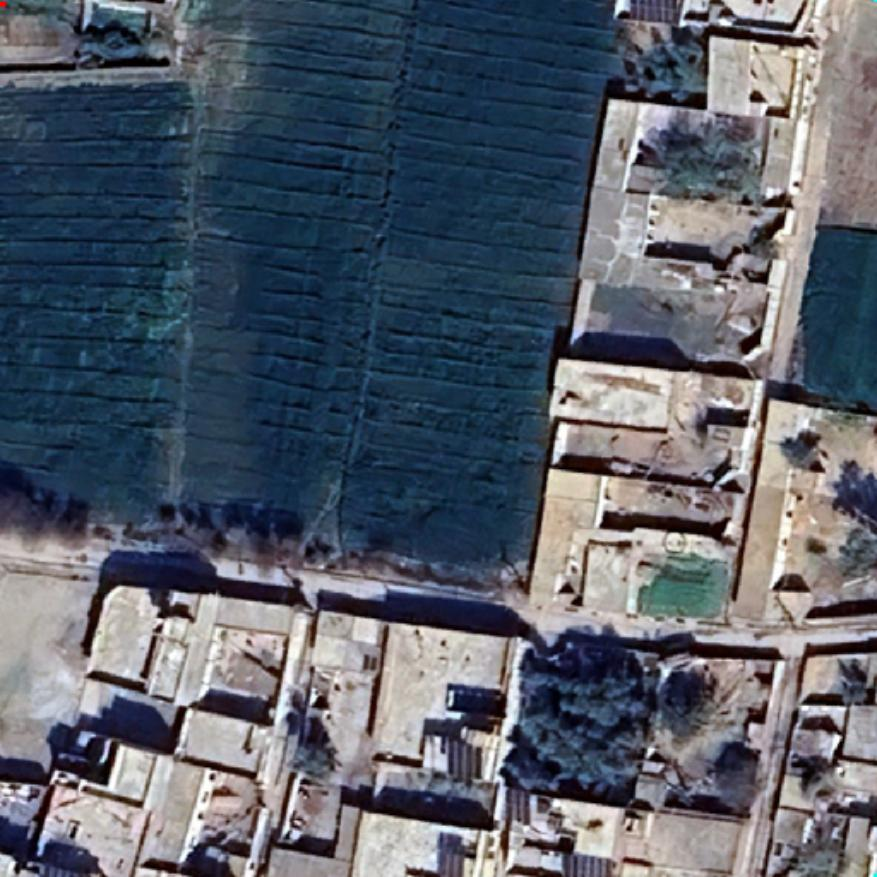Solarpanel: (442, 732, 486, 786), (622, 0, 688, 26), (560, 849, 616, 877), (501, 781, 534, 827)
